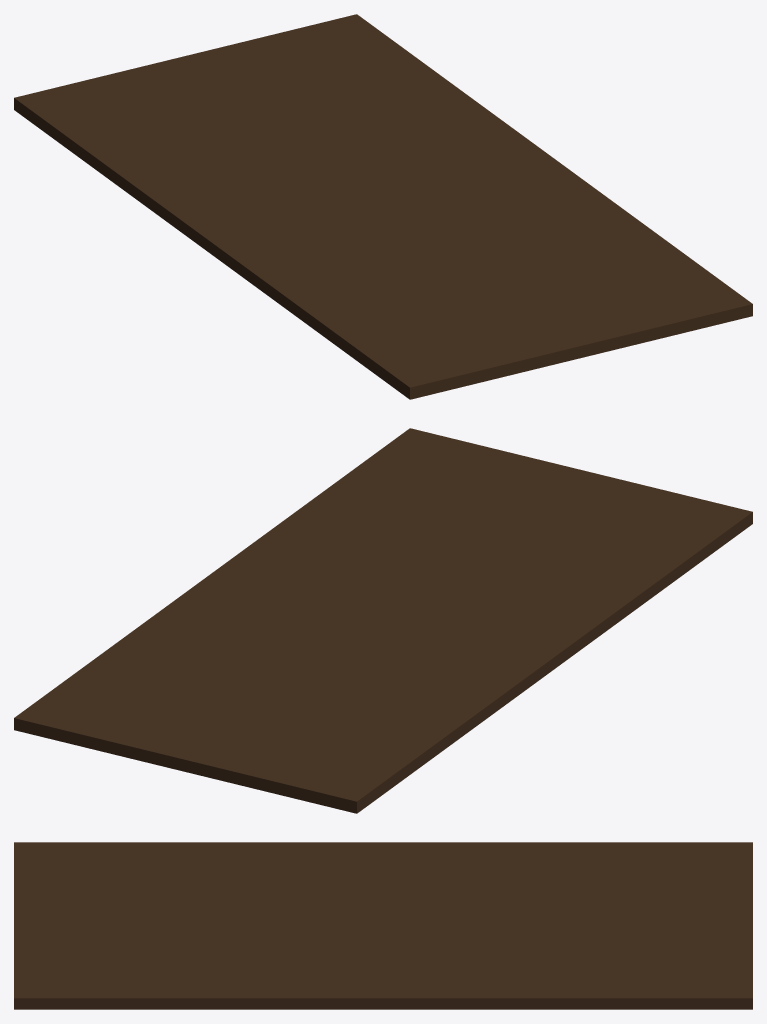
Rendered from Ceiling.fbx.
3 views of the same model, one above another, from view 1: azimuth 30°, elevation 25°; view 2: azimuth 150°, elevation 25°; view 3: azimuth 270°, elevation 25° (orthographic). The views are drawn at different scales.
Visible parts, largest first — view 1: Cube; view 2: Cube; view 3: Cube.
Part boxes in pixels (x1=…): Cube: x1=14, y1=14, x2=752, y2=399; Cube: x1=14, y1=428, x2=752, y2=813; Cube: x1=14, y1=842, x2=752, y2=1009.
Size of the model in its own units: 400 by 13.52 by 800.
